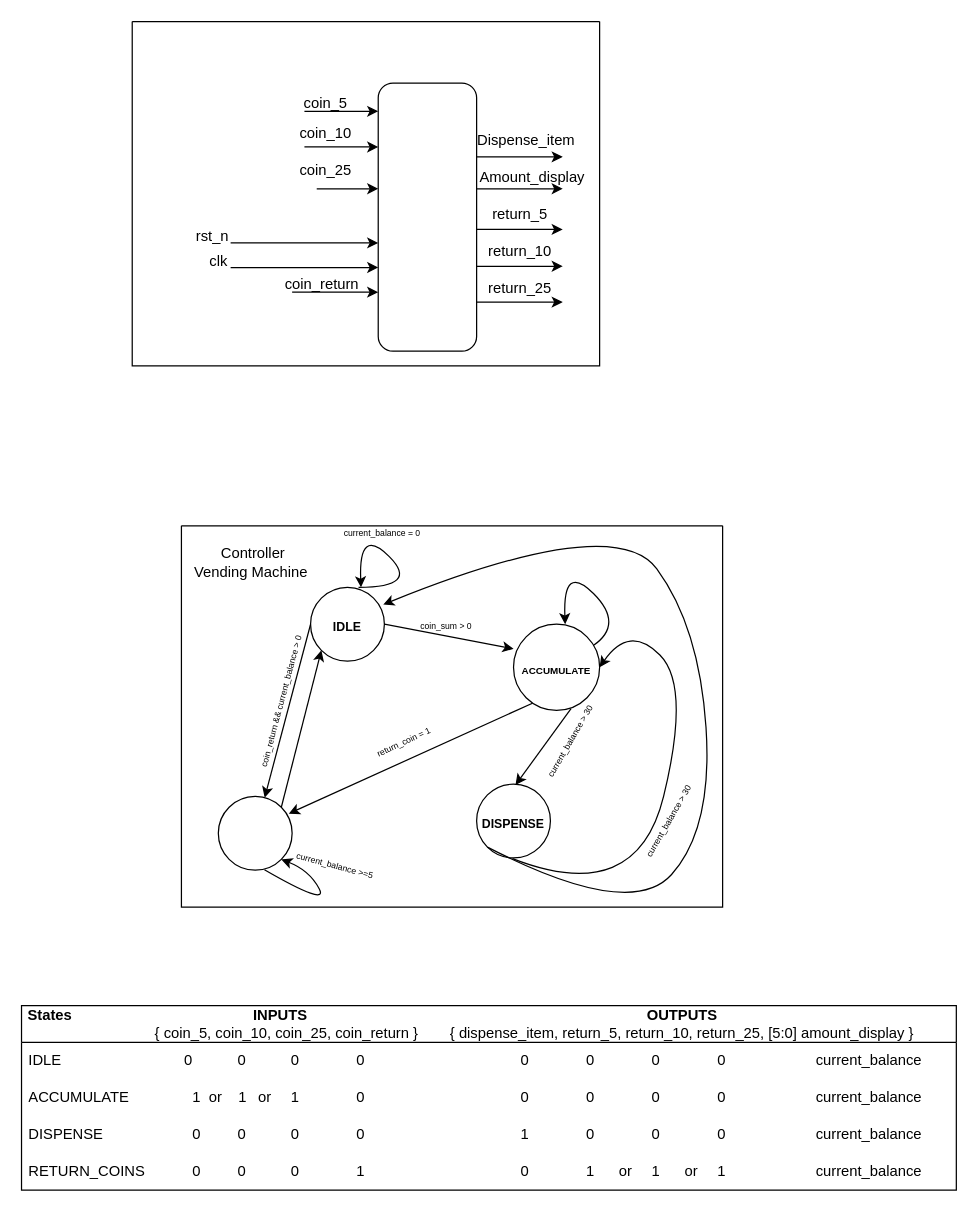
The diagram is 978 pixels wide and 1212 high, and some of its shapes have lost their labels. Here are the shapes that lost their labels. From the top down, the box of each, then its label:
(377, 82, 477, 351): Vending Machine
(217, 795, 292, 870): RETURN COINS
